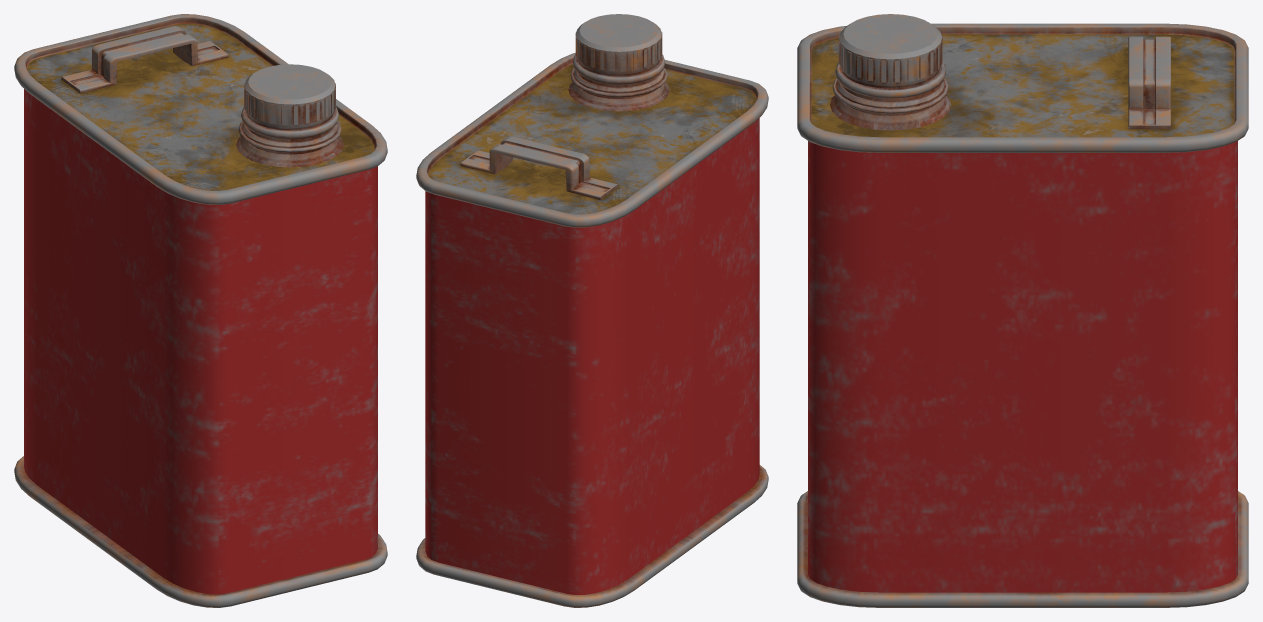
Rendered from Oil tank.fbx.
3 renders of one model, left to right at view 1: azimuth 30°, elevation 25°; view 2: azimuth 150°, elevation 25°; view 3: azimuth 270°, elevation 25°, orthographic. The views are drawn at different scales.
Visible parts, largest first — view 1: Plane; view 2: Plane; view 3: Plane.
Part boxes in pixels (x1,y1,x2,y2): Plane: (14,14,387,607); Plane: (416,14,768,607); Plane: (797,14,1248,607).
Size of the model in its own units: 55.54 by 115 by 87.99.
1 material, 1 textured.
